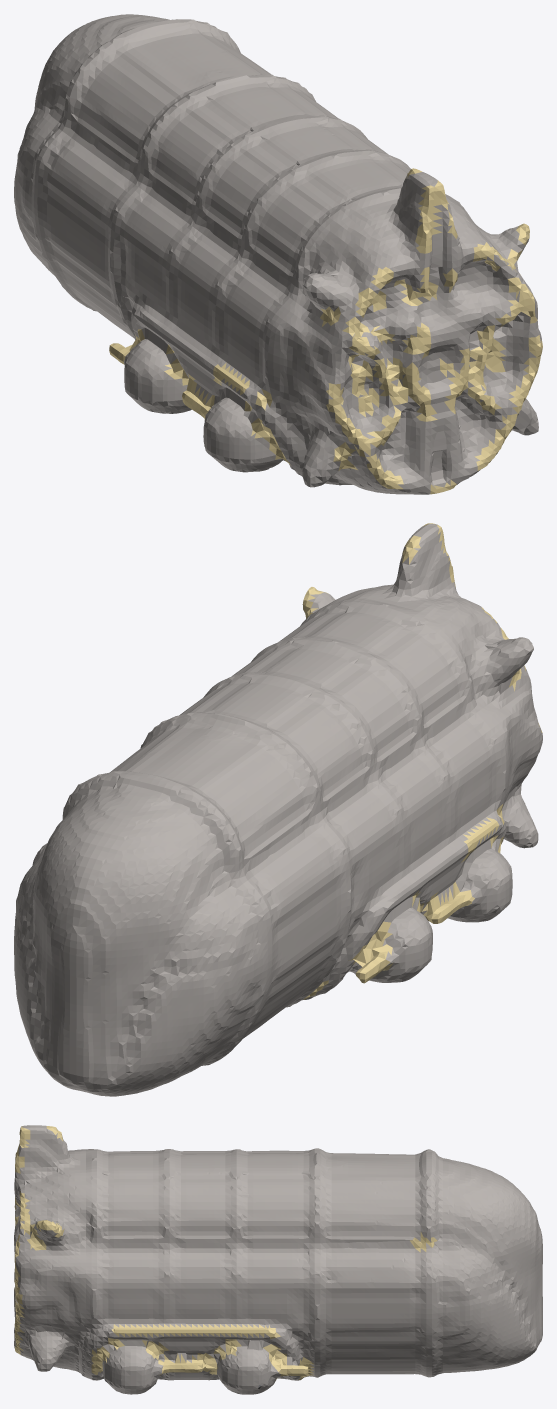
The model's file is unit_cathedral.glb.
The picture shows the model from 3 angles, top to bottom: view 1: azimuth 30°, elevation 25°; view 2: azimuth 150°, elevation 25°; view 3: azimuth 270°, elevation 25°; orthographic projection. The views are drawn at different scales.
Visible parts, largest first — view 1: Mesh_0.055; view 2: Mesh_0.055; view 3: Mesh_0.055.
Part boxes in pixels (x1,y1,x2,y2): Mesh_0.055: [14, 14, 542, 494]; Mesh_0.055: [14, 523, 542, 1096]; Mesh_0.055: [14, 1125, 542, 1394].
Size of the model in its own units: 3.31 by 3.47 by 7.
